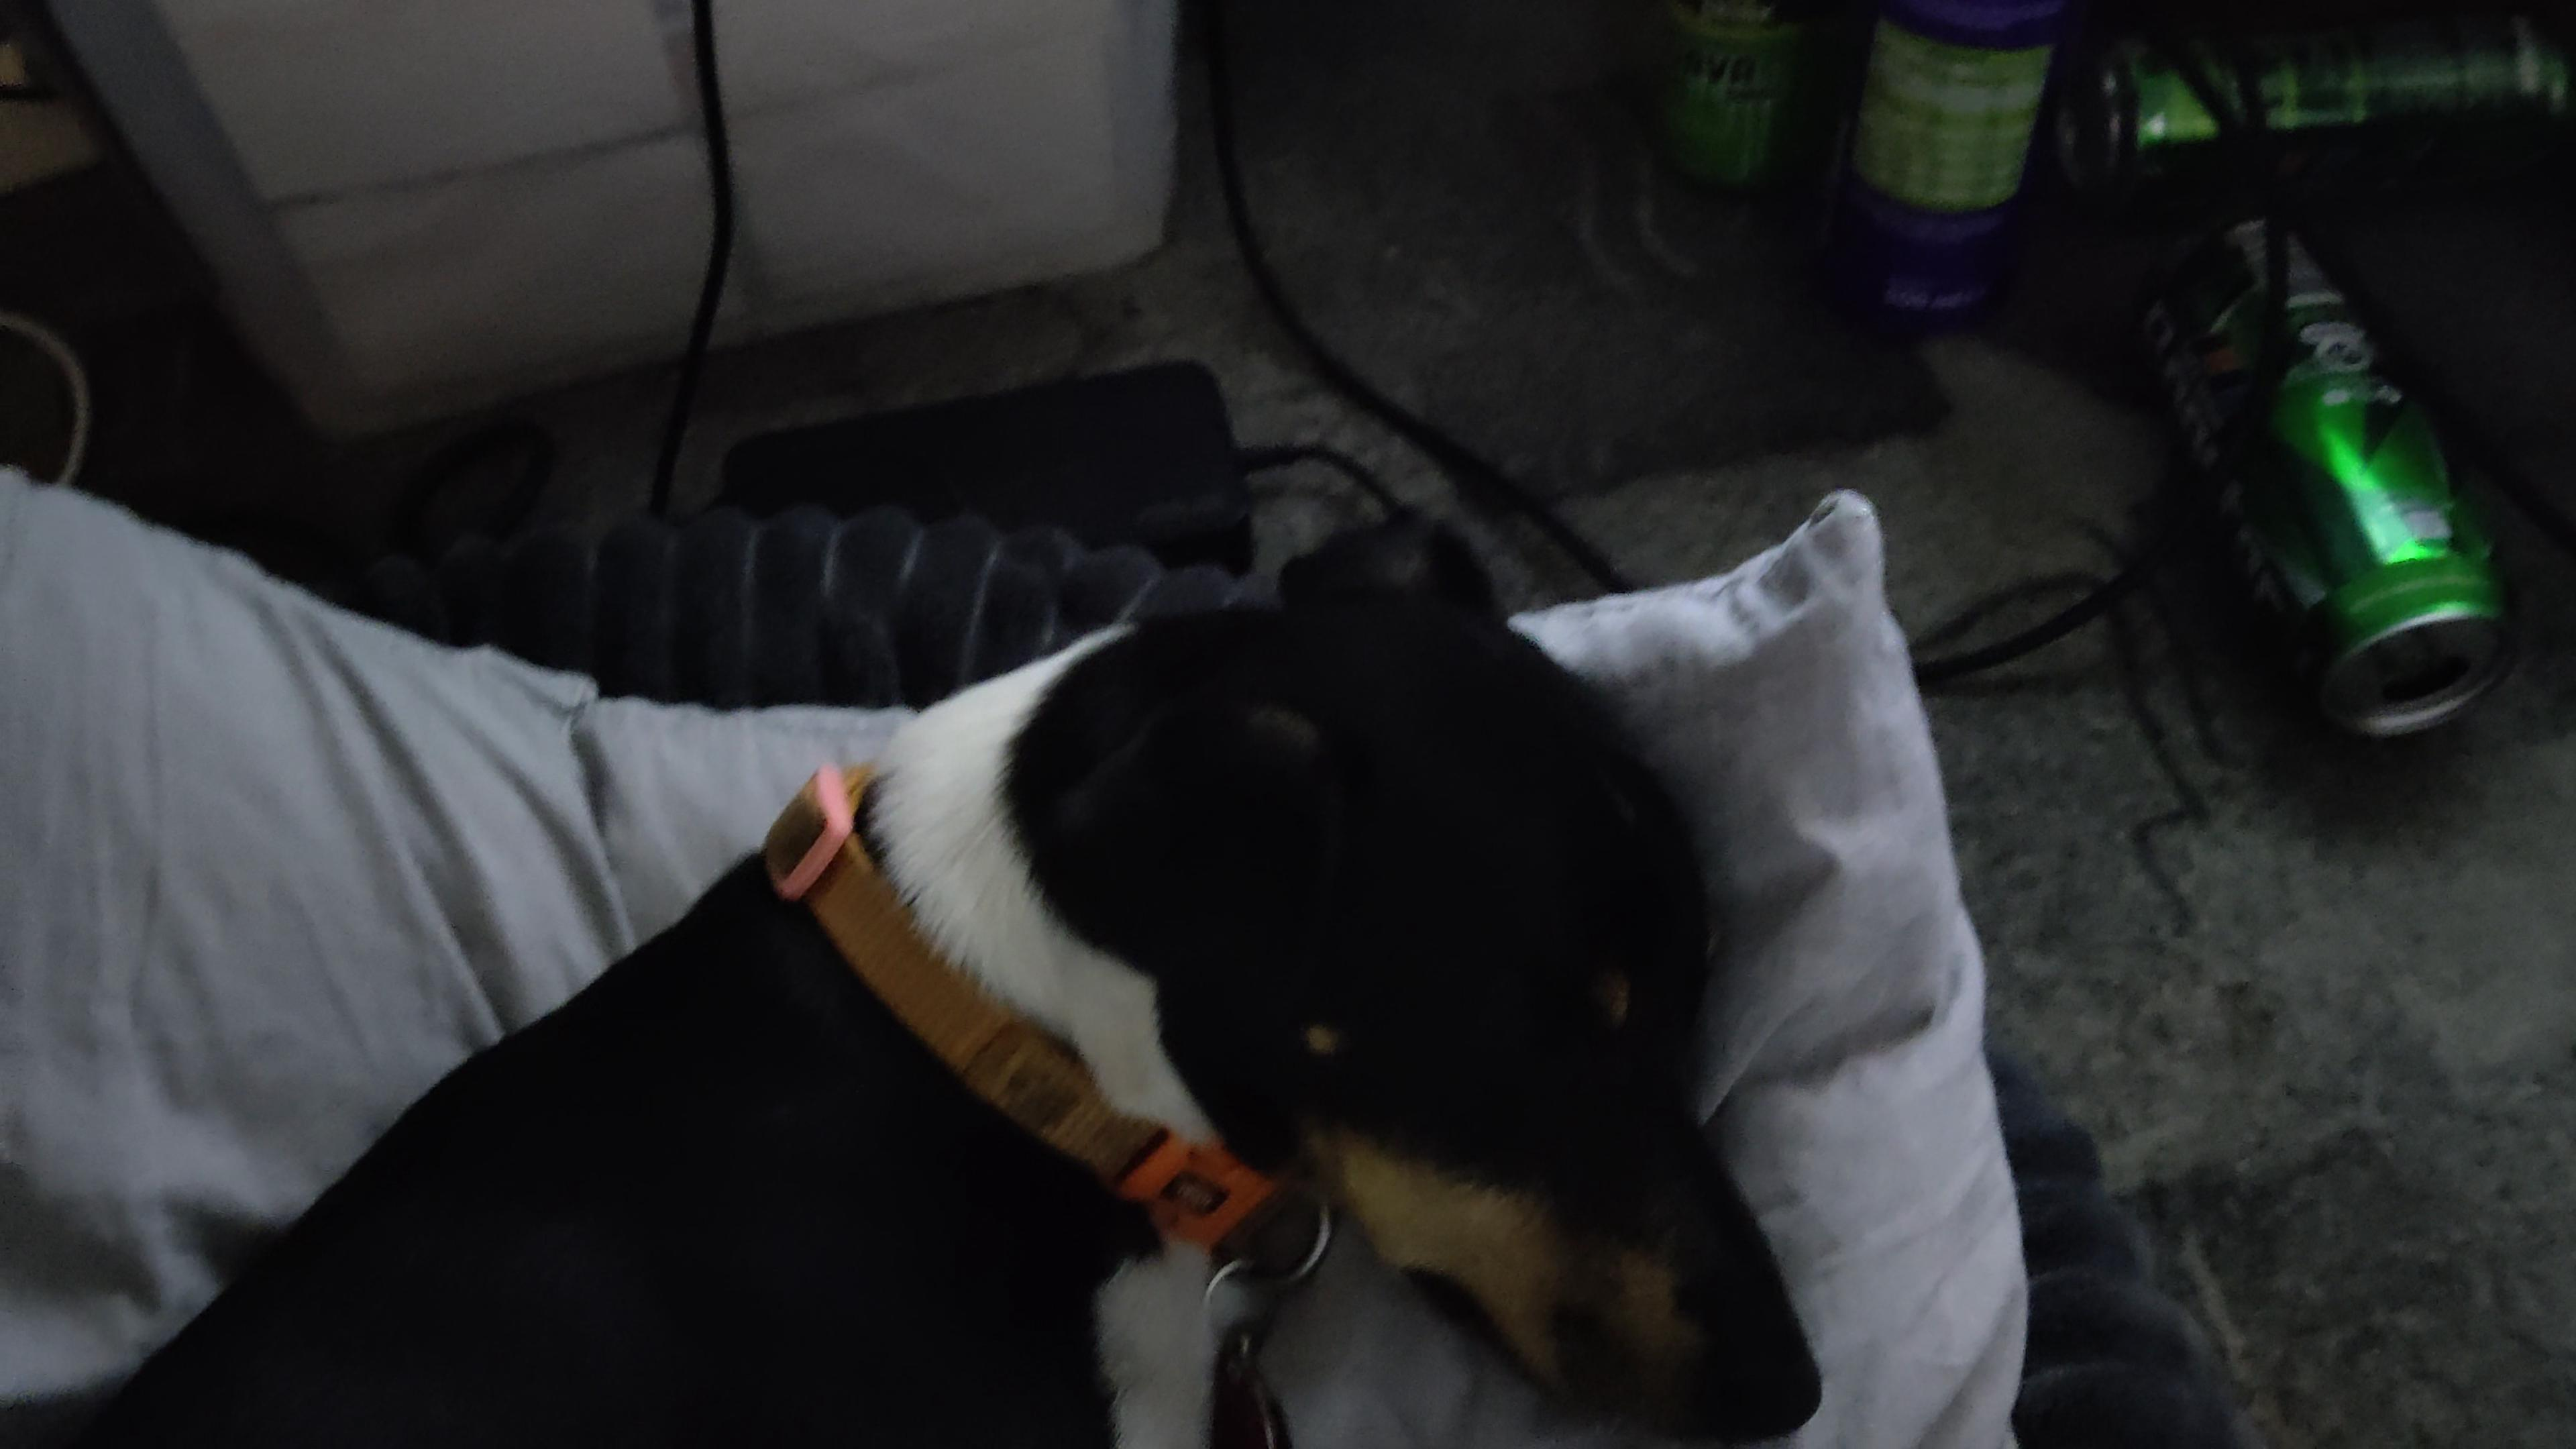Dog: (23, 487, 1829, 1449)
